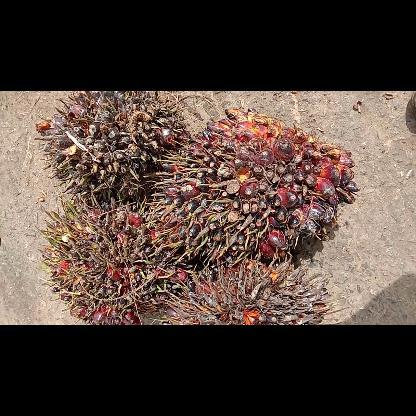TBS abnormal: (154, 109, 358, 263), (42, 194, 178, 324), (37, 91, 187, 201), (169, 264, 331, 324)
